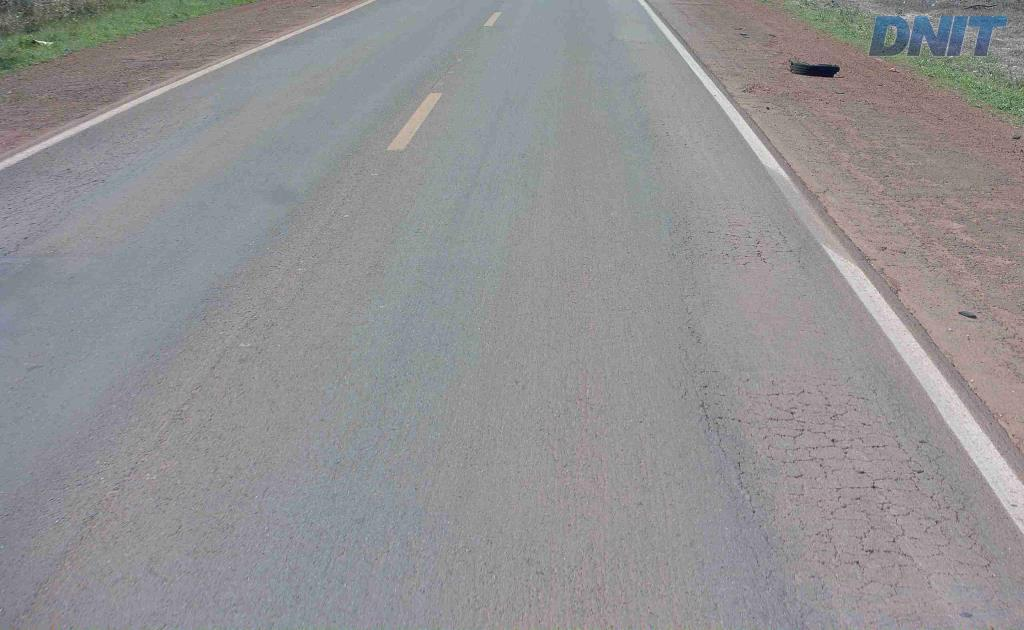crack: (697, 397, 745, 459), (732, 449, 768, 524)
